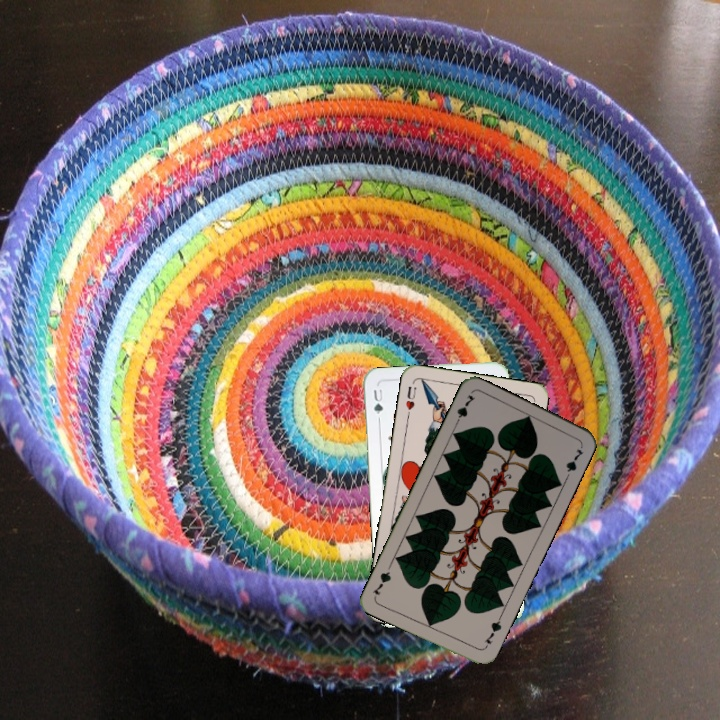G7: (451, 390, 478, 428), (480, 613, 504, 651)
GU: (369, 385, 386, 423)
HU: (402, 382, 419, 419)
